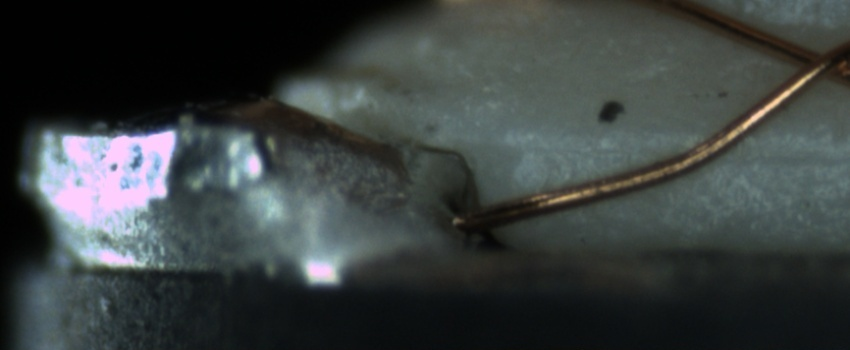CL: (771, 30, 849, 94)
DL: (516, 122, 850, 181)
